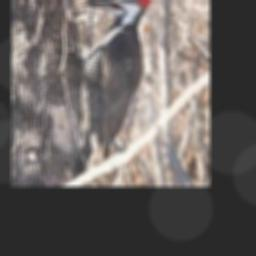Woodpecker: (77, 0, 154, 177)
